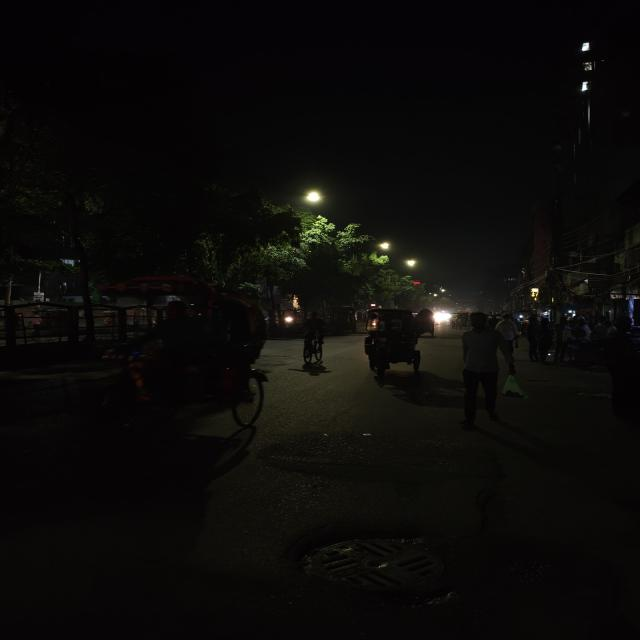bicycle: (296, 311, 332, 371)
pedestrian: (451, 310, 522, 422), (523, 313, 557, 363), (496, 310, 522, 352)
rickshaw: (94, 286, 278, 431), (351, 302, 435, 380)
